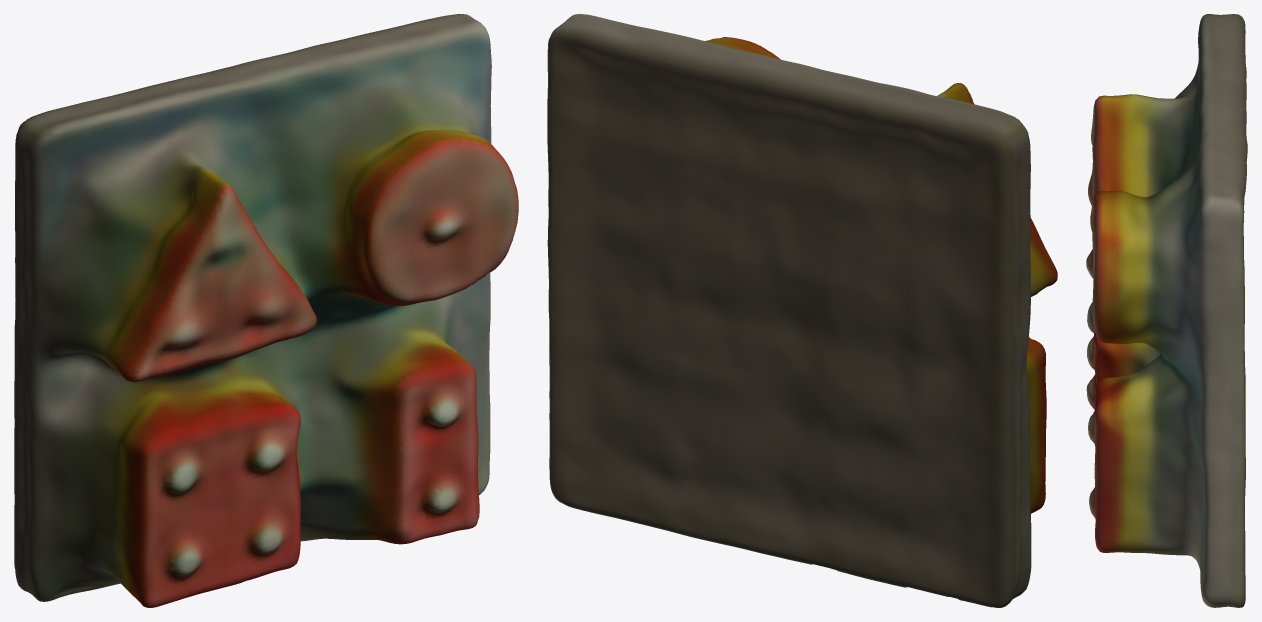
Rendered from sorting_board.glb.
3 views of the same model, side by side, from view 1: azimuth 30°, elevation 25°; view 2: azimuth 150°, elevation 25°; view 3: azimuth 270°, elevation 25° (orthographic). The views are drawn at different scales.
Bounding box in the file's own units: 0.9989 × 0.9865 × 0.3466.
